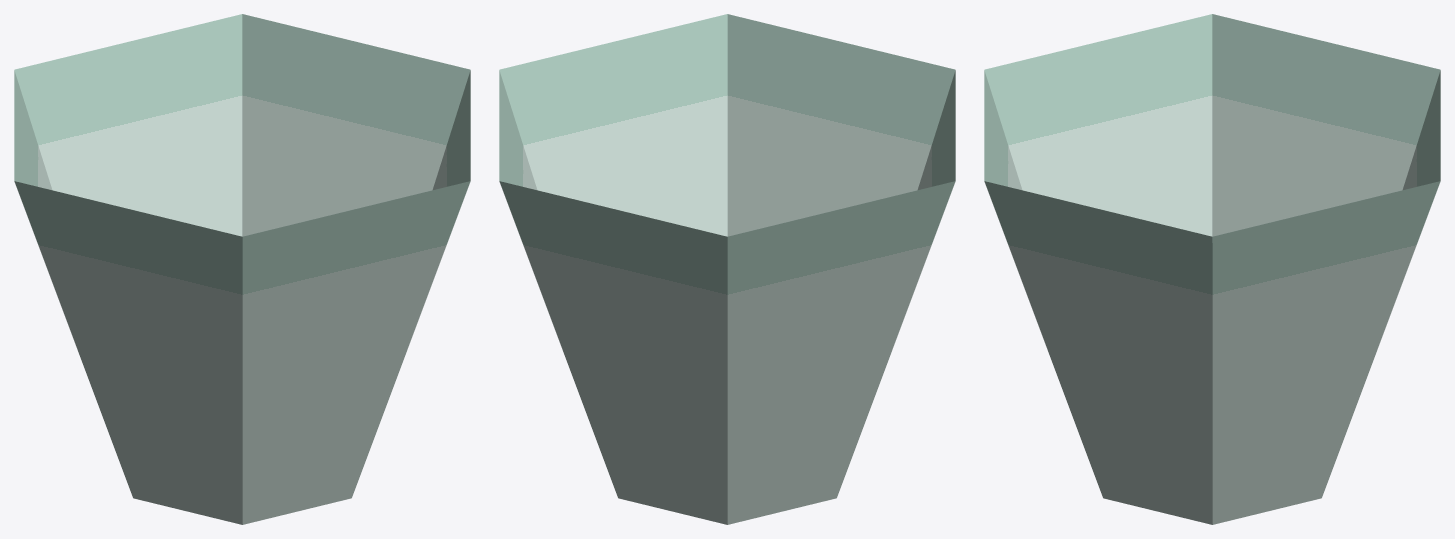
File: LightGreen_02.fbx
The picture shows the model from 3 angles, left to right: view 1: azimuth 30°, elevation 25°; view 2: azimuth 150°, elevation 25°; view 3: azimuth 270°, elevation 25°; orthographic projection.
Visible parts, largest first — view 1: LightGreen_02; view 2: LightGreen_02; view 3: LightGreen_02.
Part boxes in pixels (<box>): LightGreen_02: <box>14,14,470,524</box>; LightGreen_02: <box>499,14,955,524</box>; LightGreen_02: <box>984,14,1440,524</box>.
Size of the model in its own units: 339 by 246 by 294.
1 material, 1 textured.
